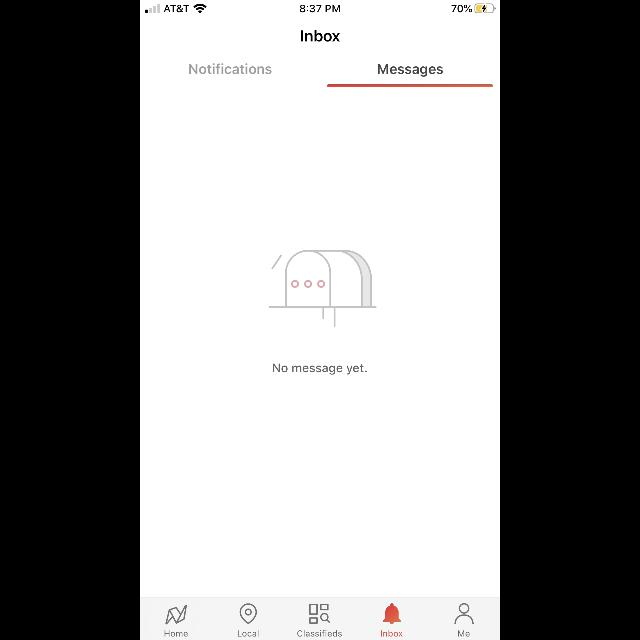icon: (310, 604, 330, 624), (454, 604, 474, 624), (383, 604, 401, 624), (240, 604, 256, 624)
image: (269, 250, 377, 328), (166, 605, 188, 625)
text: (273, 364, 367, 374), (378, 64, 444, 78), (190, 64, 272, 74), (300, 30, 340, 42), (298, 630, 342, 636), (164, 630, 188, 636), (381, 630, 403, 636), (238, 630, 258, 636), (458, 631, 470, 637)
uppertaskbar: (140, 0, 500, 14)
